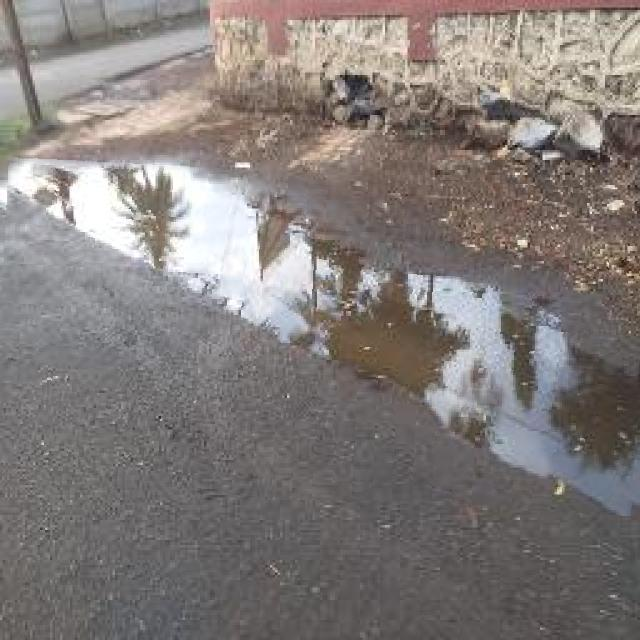puddle: (1, 166, 640, 509)
